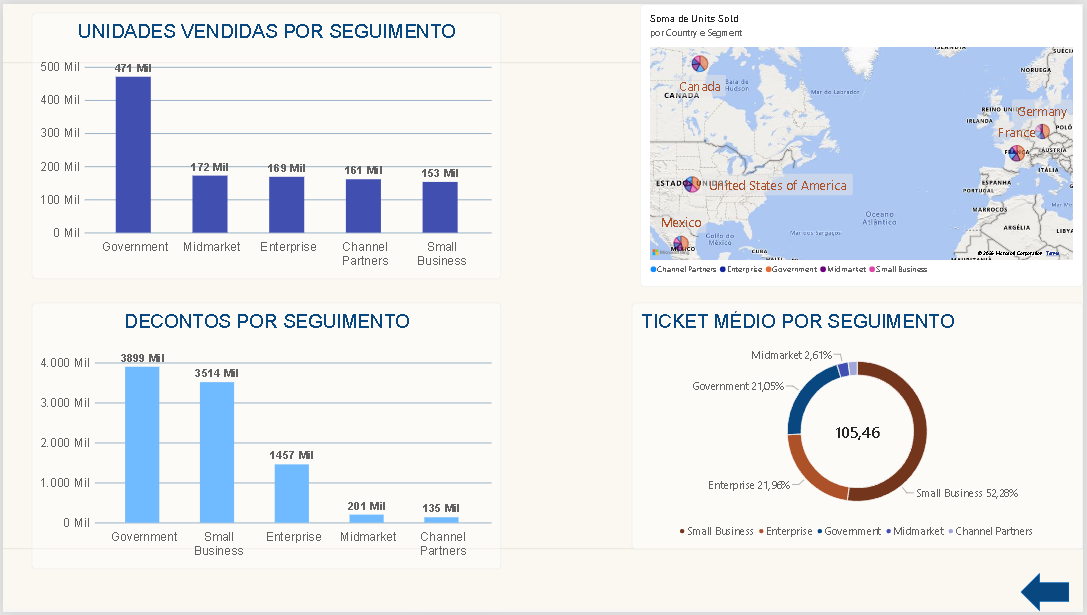

What the dashboard file says about the page in this screenshot:
{"tool":"powerbi","page":{"name":"SEGMENTOS","canvas":[1920,1080],"ordinal":2},"visuals":[{"type":"map","fields":{"Category":["financials.Country"],"Series":["financials.Segment"],"Size":["Sum(financials.Units Sold)"]},"box":[1133.2,0,786.8,503],"z":1},{"type":"lineClusteredColumnComboChart","title":"DECONTOS POR SEGUIMENTO","fields":{"Category":["financials.Segment"],"Y":["Sum(financials.Discounts)"]},"box":[50.1,532.2,834.8,473.7],"z":3},{"type":"lineClusteredColumnComboChart","title":"UNIDADES VENDIDAS POR SEGUIMENTO","fields":{"Category":["financials.Segment"],"Y":["Sum(financials.Units Sold)"]},"box":[50.1,14.6,834.8,473.7],"z":4},{"type":"donutChart","title":"TICKET MÉDIO POR SEGUIMENTO","fields":{"Category":["financials.Segment"],"Y":["financials.Ticket Médio"]},"box":[1117.8,531.1,802.2,440],"z":5},{"type":"shape","box":[1808.9,1011.1,86.7,68.9],"z":6}]}

Visuals, with their boxes in screenshot pixels (x1, y1, x2, y2), scaled from the page's 1920x1080 canvas onto the 1087x615 screenshot:
map - financials.Country x financials.Segment: 642, 0, 1086, 286
"DECONTOS POR SEGUIMENTO" lineClusteredColumnComboChart: 28, 303, 501, 573
"UNIDADES VENDIDAS POR SEGUIMENTO" lineClusteredColumnComboChart: 28, 8, 501, 278
"TICKET MÉDIO POR SEGUIMENTO" donutChart: 633, 302, 1086, 553
shape: 1024, 576, 1073, 614
